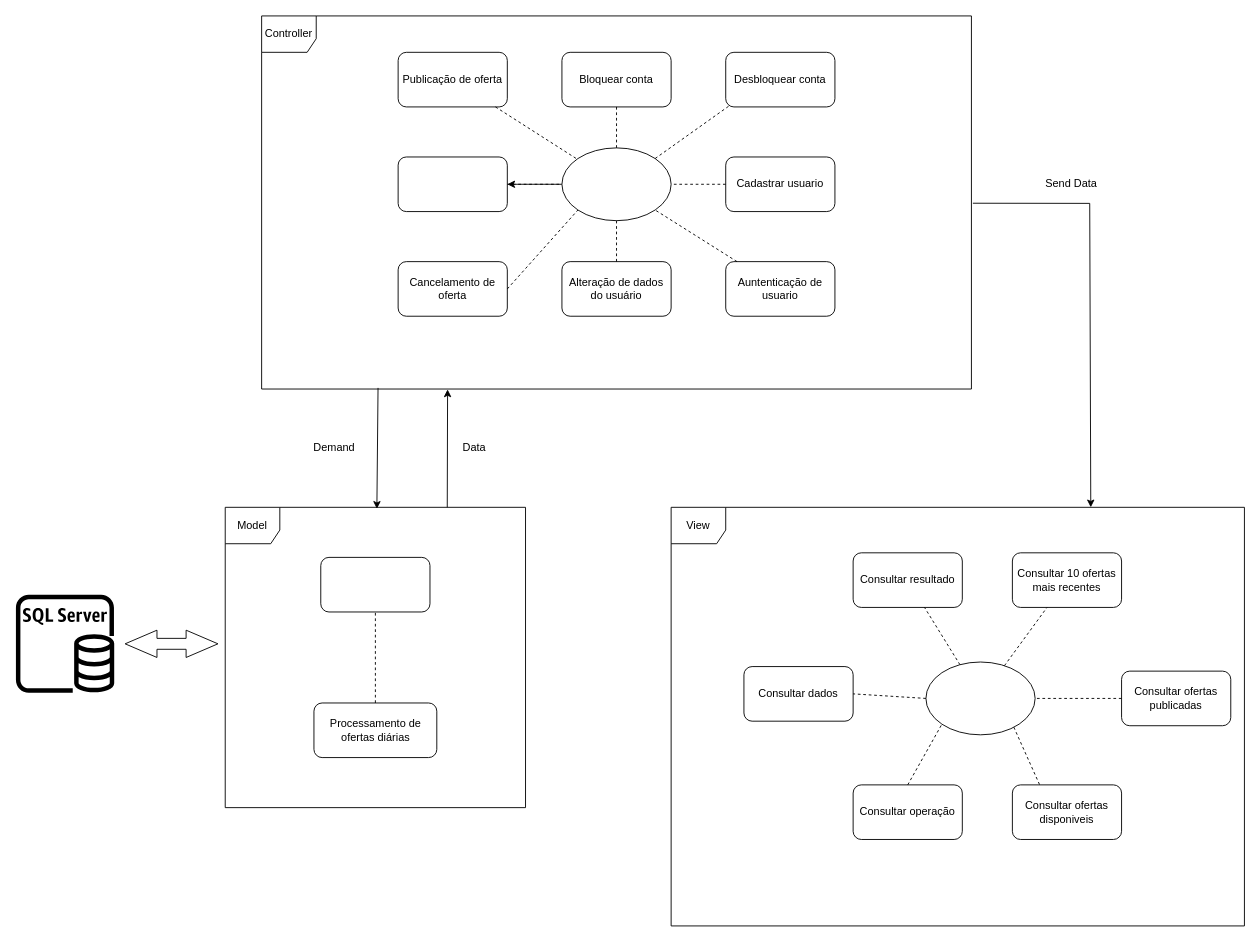
The diagram is 1260 pixels wide and 942 high, and some of its shapes have lost their labels. The shapes that lost their labels are listed below. From the top down, each one's centre as x and y in pixels, then its label:
At (x=452, y=184): "Renovação de oferta".
At (x=616, y=184): "UserController".
At (x=375, y=584): "UserModel".
At (x=980, y=698): "UserView".
